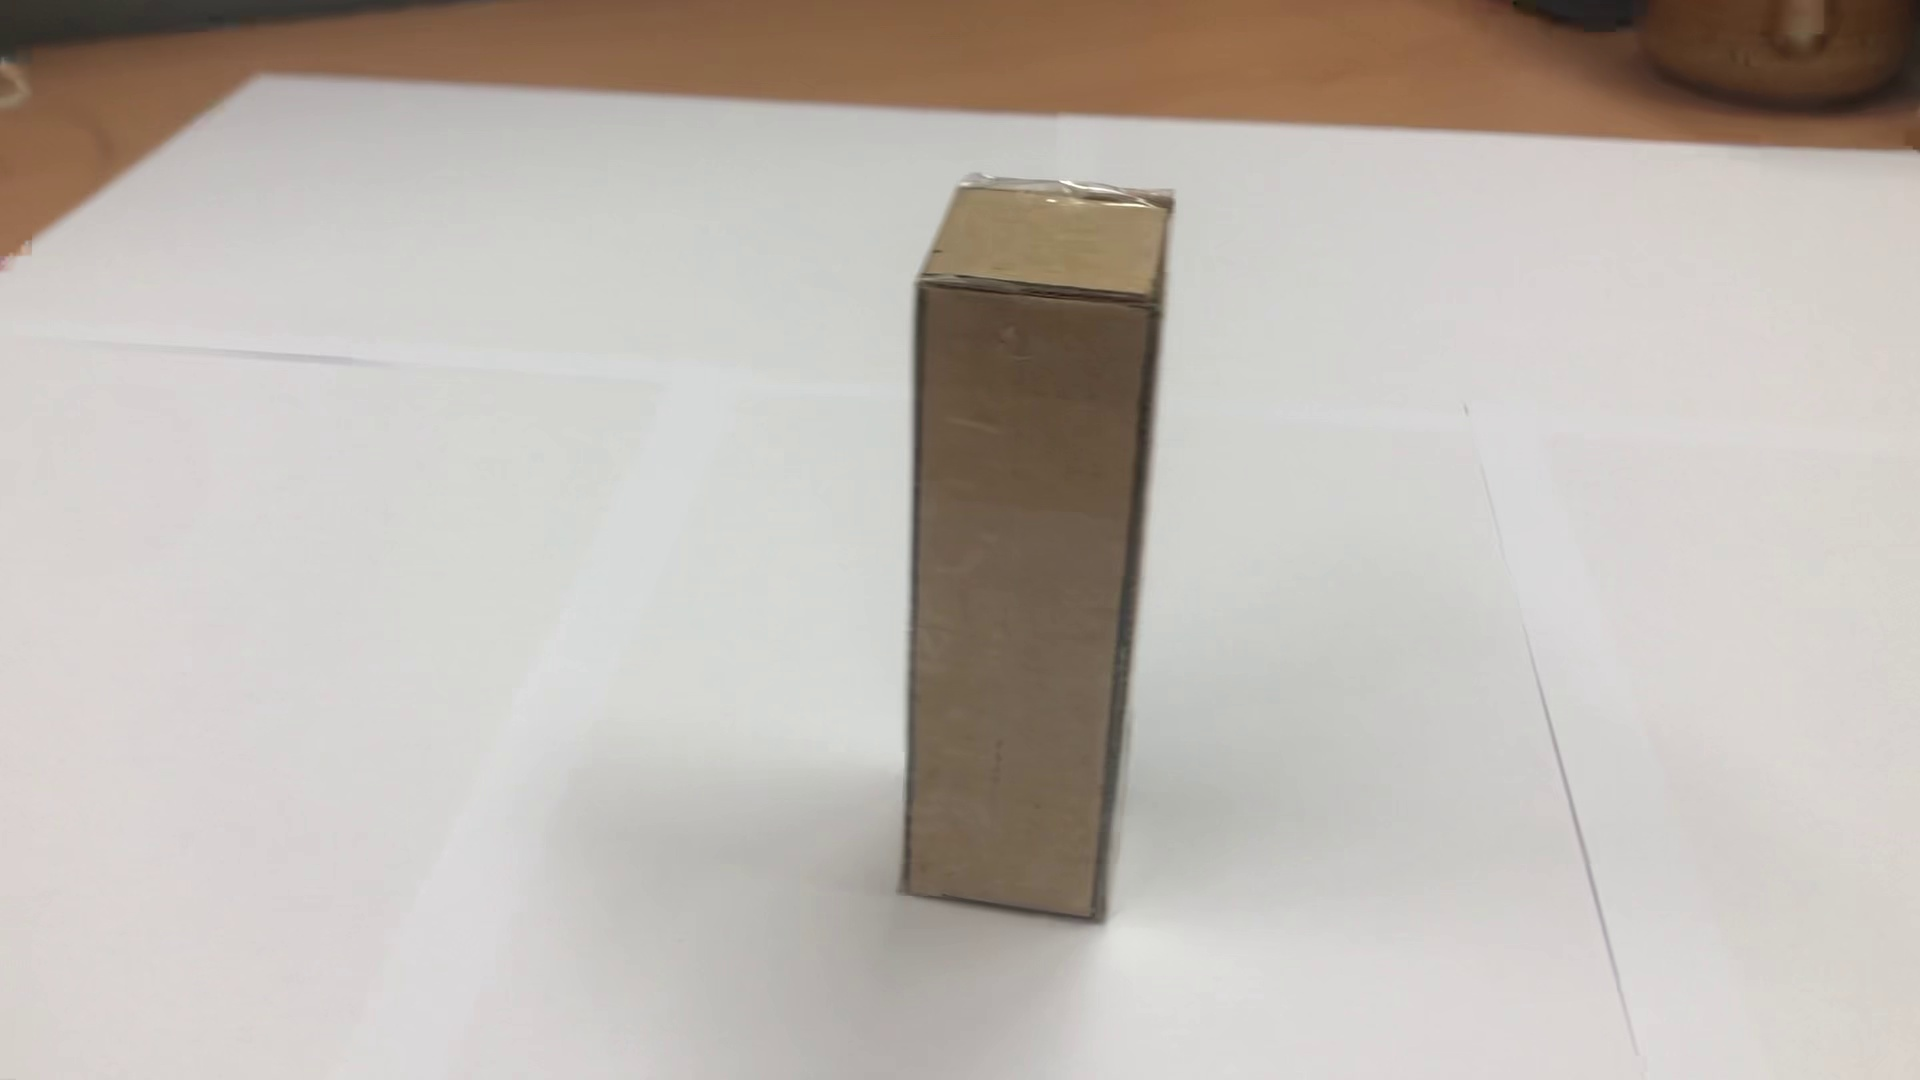box: (855, 164, 1222, 952)
